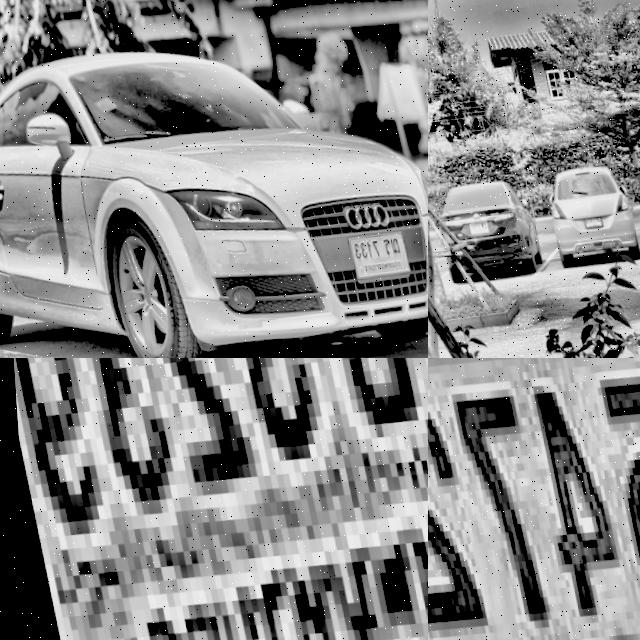license-plate: (0, 358, 428, 640), (428, 358, 640, 640), (339, 221, 408, 278), (579, 212, 600, 228), (465, 219, 485, 234)
